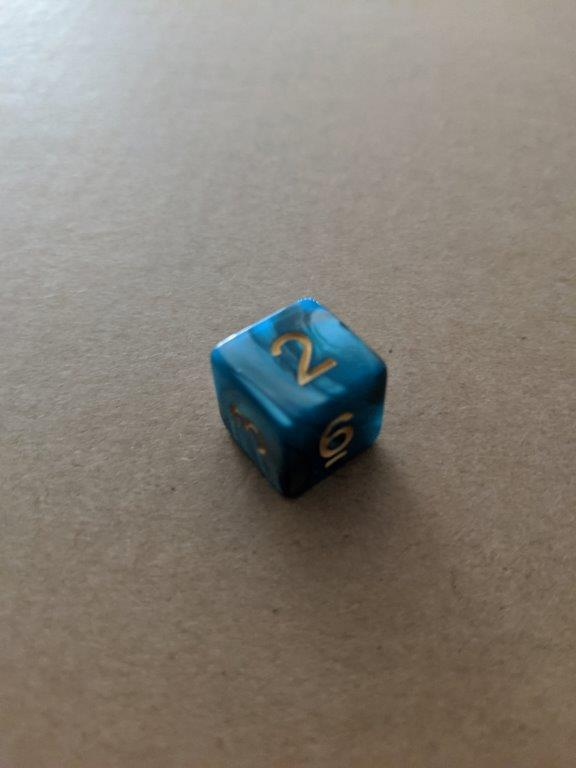d6-2: (210, 296, 391, 496)
